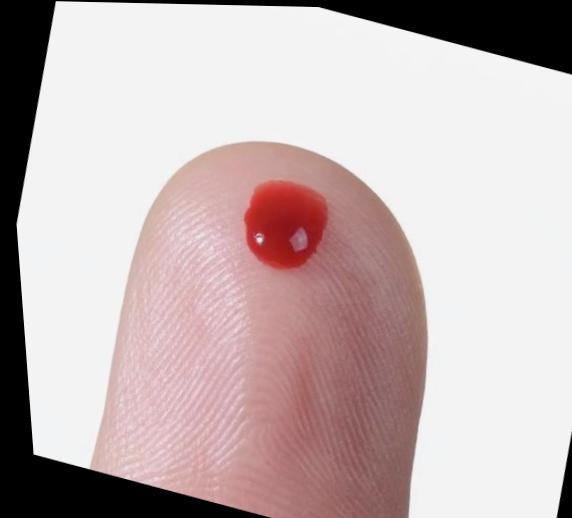Fire: (240, 179, 324, 266)
